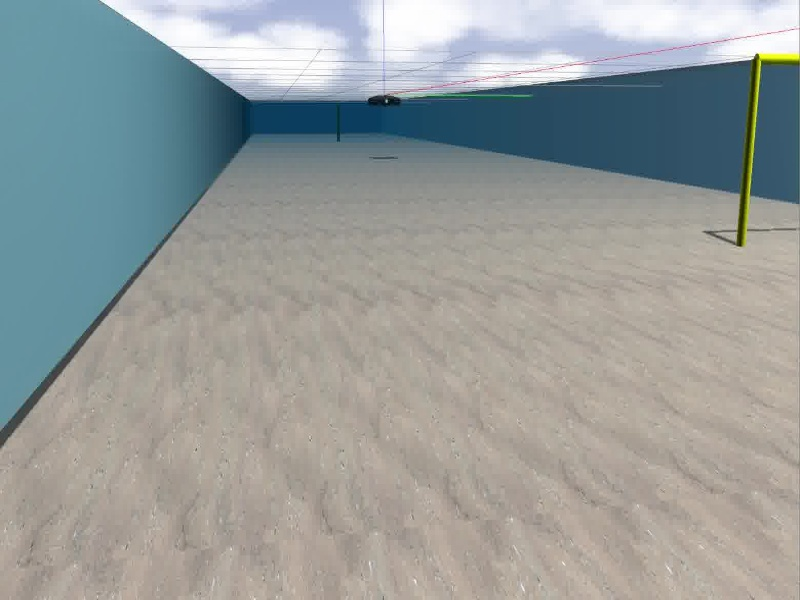gate: (735, 51, 800, 246)
